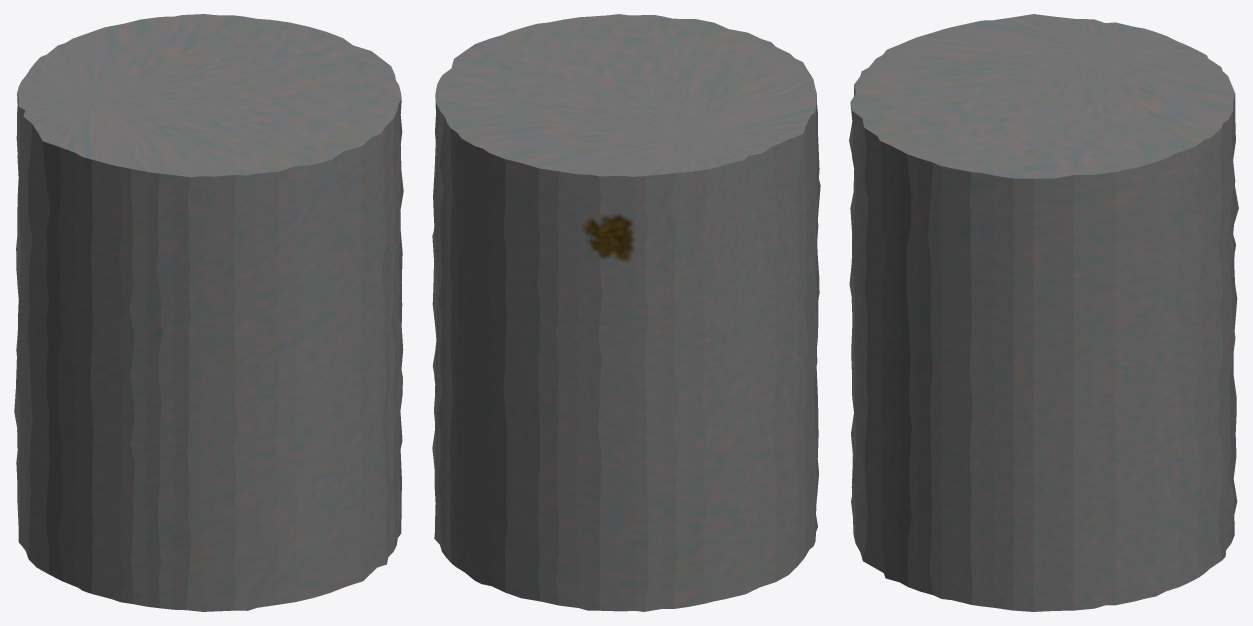
Rendered from barrel_1.dae.
3 renders of one model, left to right at view 1: azimuth 30°, elevation 25°; view 2: azimuth 150°, elevation 25°; view 3: azimuth 270°, elevation 25°, orthographic.
Visible parts, largest first — view 1: Cylinder; view 2: Cylinder; view 3: Cylinder.
Part boxes in pixels (box(x1,y1,x2,y2)): Cylinder: box(14, 14, 403, 611); Cylinder: box(432, 14, 820, 611); Cylinder: box(849, 14, 1238, 611).
Bounding box in the file's own units: 0.8214 × 0.8159 × 1.
1 material, 1 textured.
